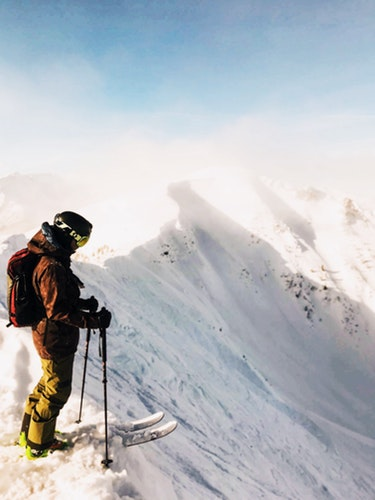helmet: (44, 204, 103, 252)
